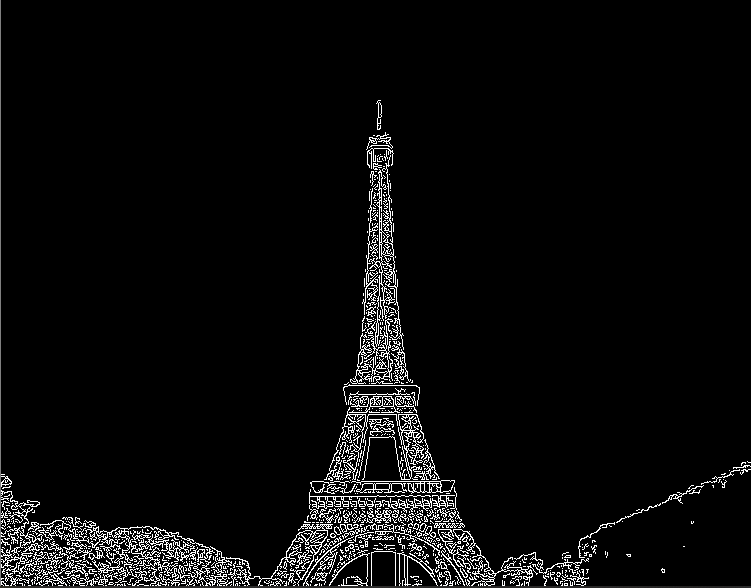eiffel tower: (243, 71, 502, 579)
